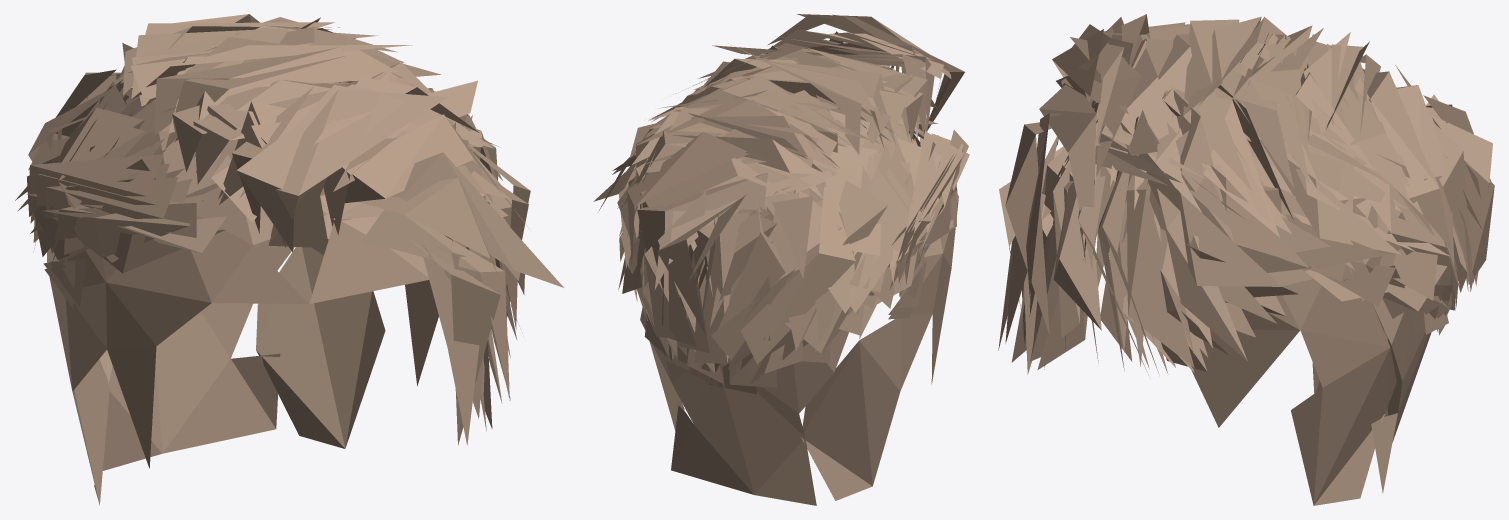
The model's file is male_hair_05_lod2.glb.
The picture shows the model from 3 angles, left to right: view 1: azimuth 30°, elevation 25°; view 2: azimuth 150°, elevation 25°; view 3: azimuth 270°, elevation 25°; orthographic projection. The views are drawn at different scales.
Parts seen in each view (by area): view 1: hair_05; view 2: hair_05; view 3: hair_05.
Part boxes in pixels (x1,y1,x2,y2): hair_05: (15, 14, 563, 505); hair_05: (593, 14, 969, 505); hair_05: (998, 14, 1494, 505).
Size of the model in its own units: 0.1784 by 0.1983 by 0.2098.
